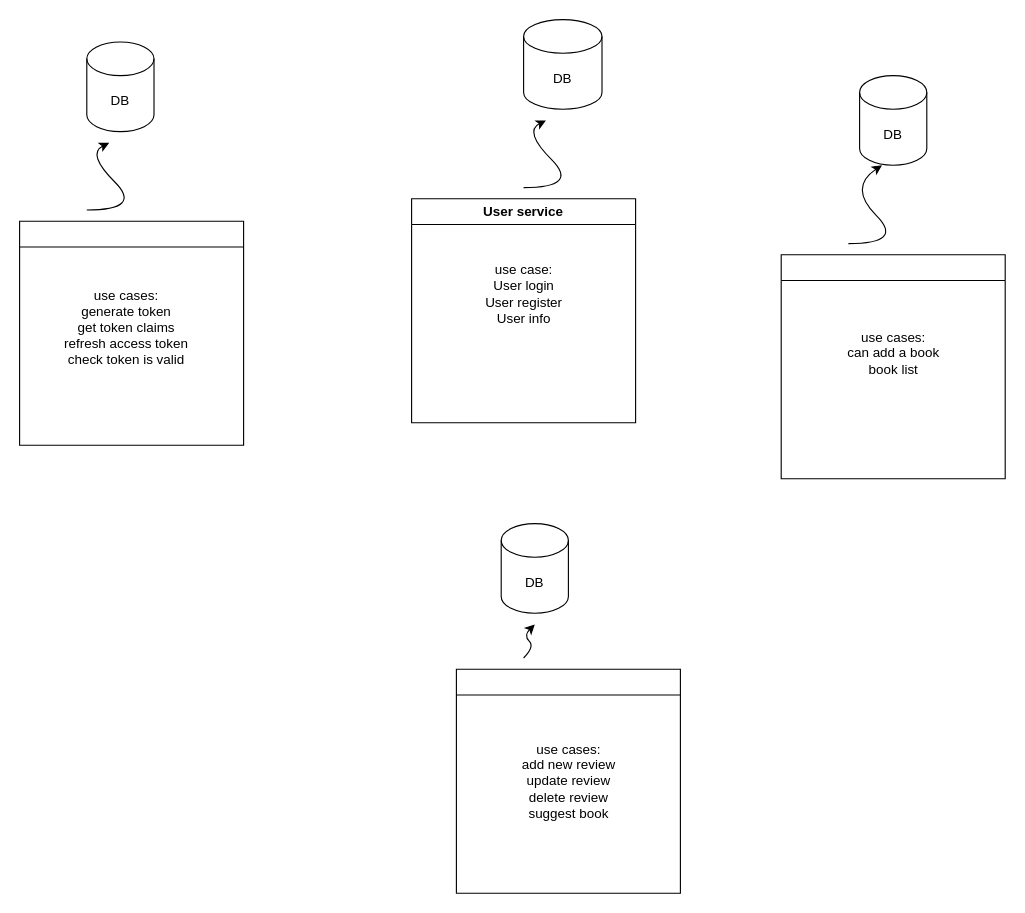
The diagram is 1025 pixels wide and 913 high, and some of its shapes have lost their labels. Here are the shapes that lost their labels. From the top down, the box of each, then its label:
(18, 220, 244, 445): Auth service
(780, 254, 1005, 479): Book service
(455, 668, 680, 893): book review Service
